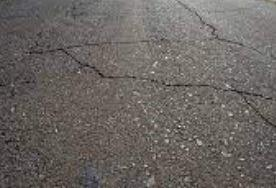crack: (29, 37, 276, 125), (174, 0, 228, 35)
